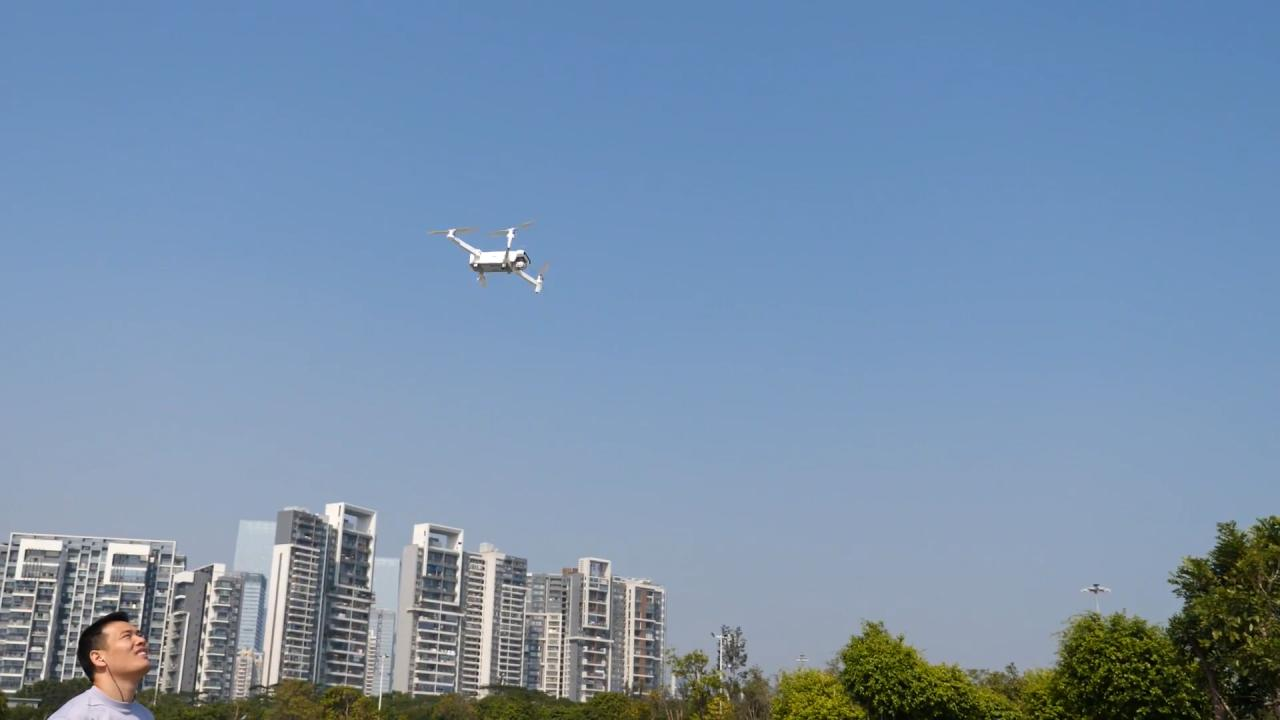Drone: (412, 216, 563, 300)
